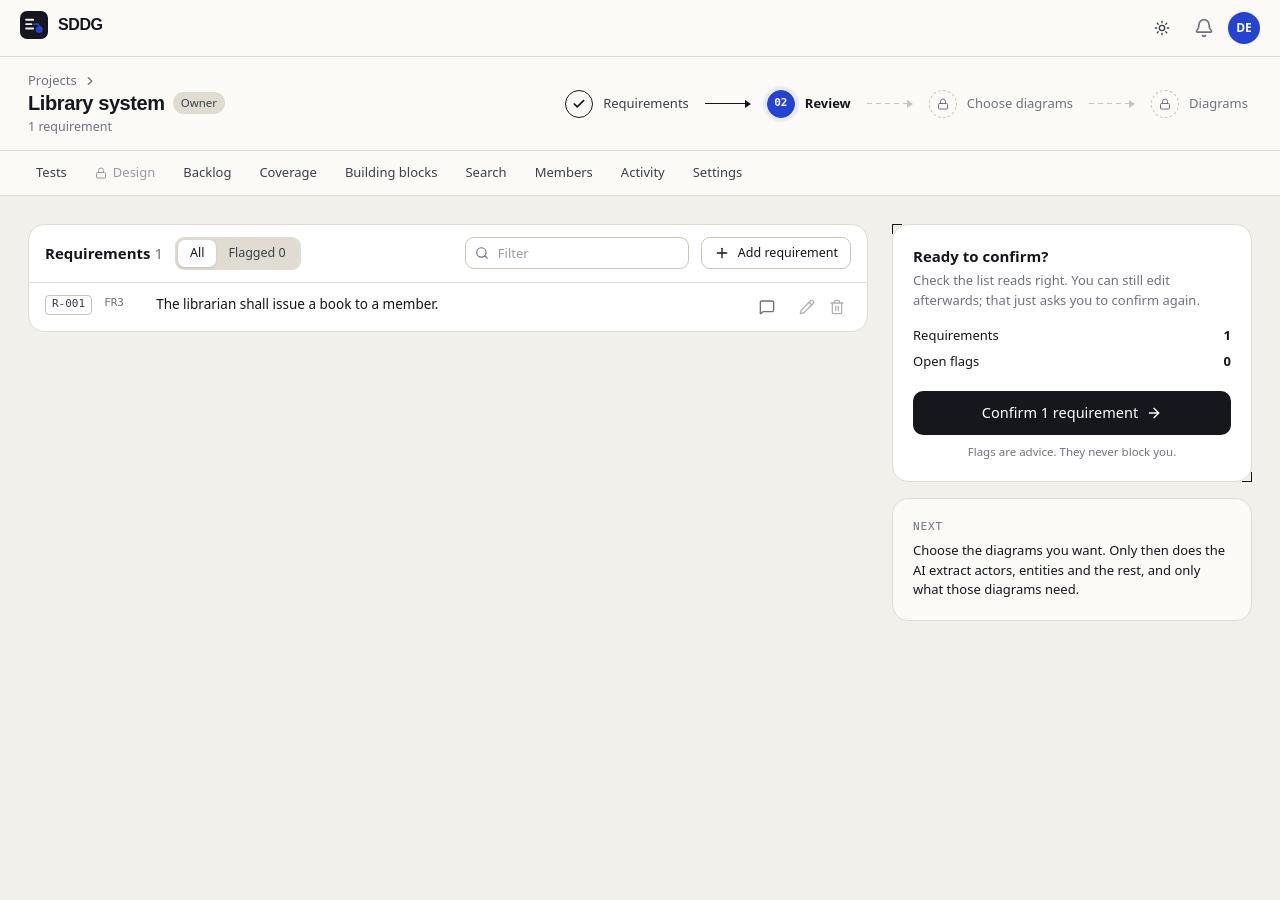
Scenario: Comments panel › sends an issue report when the box is ticked
Click the button named "Comments on R-001": (767, 306) [753, 292, 781, 320]
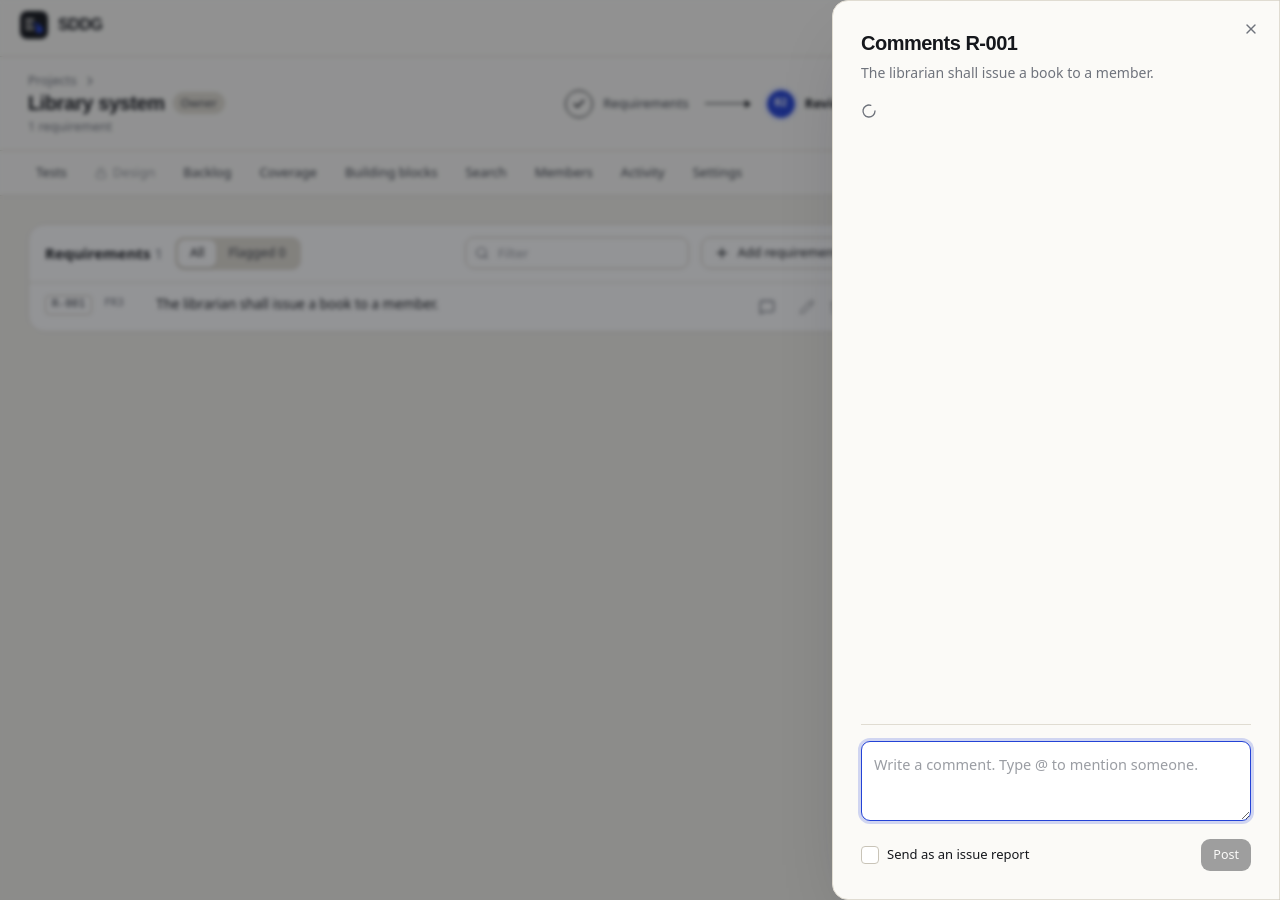
In the text box labelled "comment": (1056, 781) [861, 741, 1251, 821], type "R-001 is drawn twice."
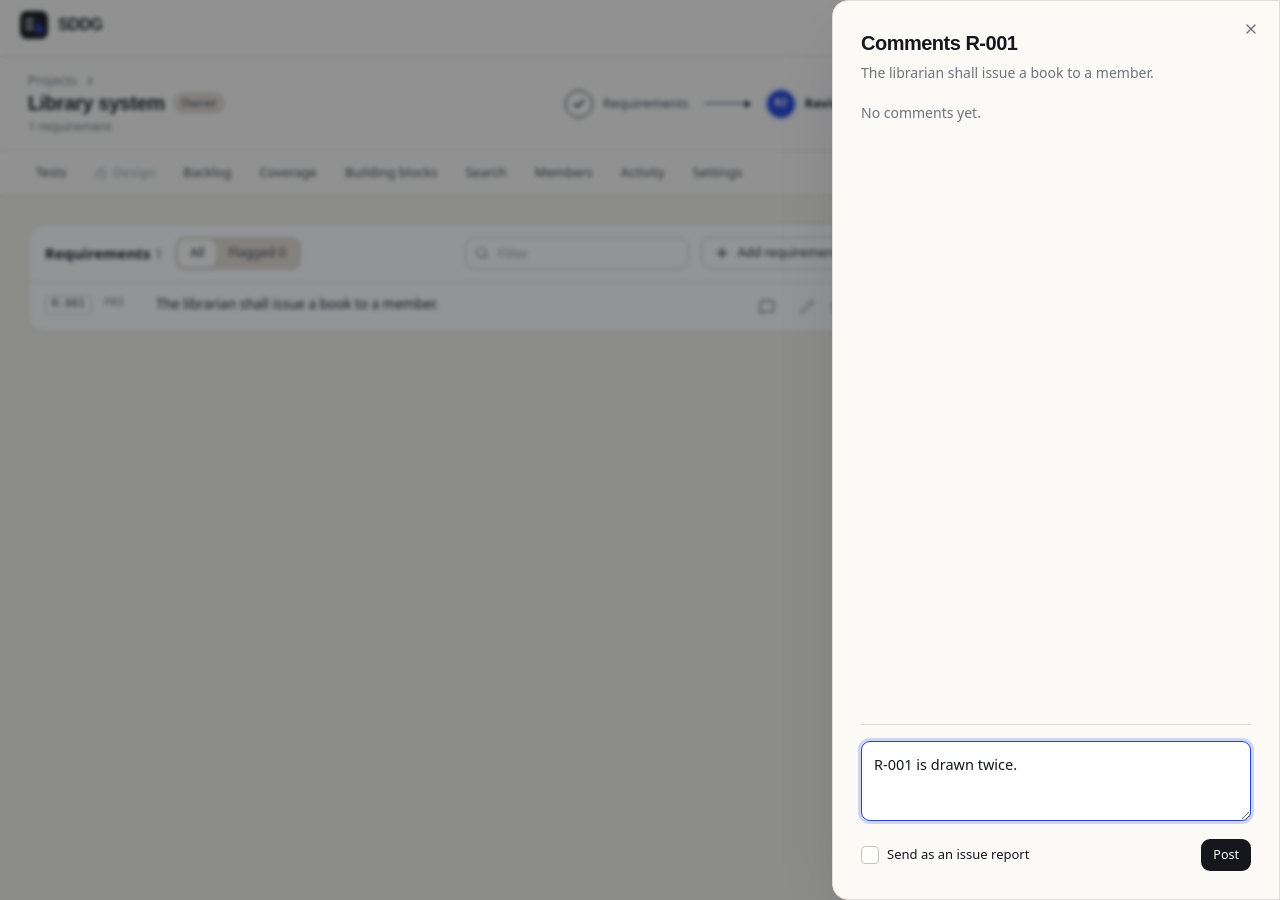
Click the checkbox named "Send as an issue report": (870, 855) [861, 846, 879, 864]
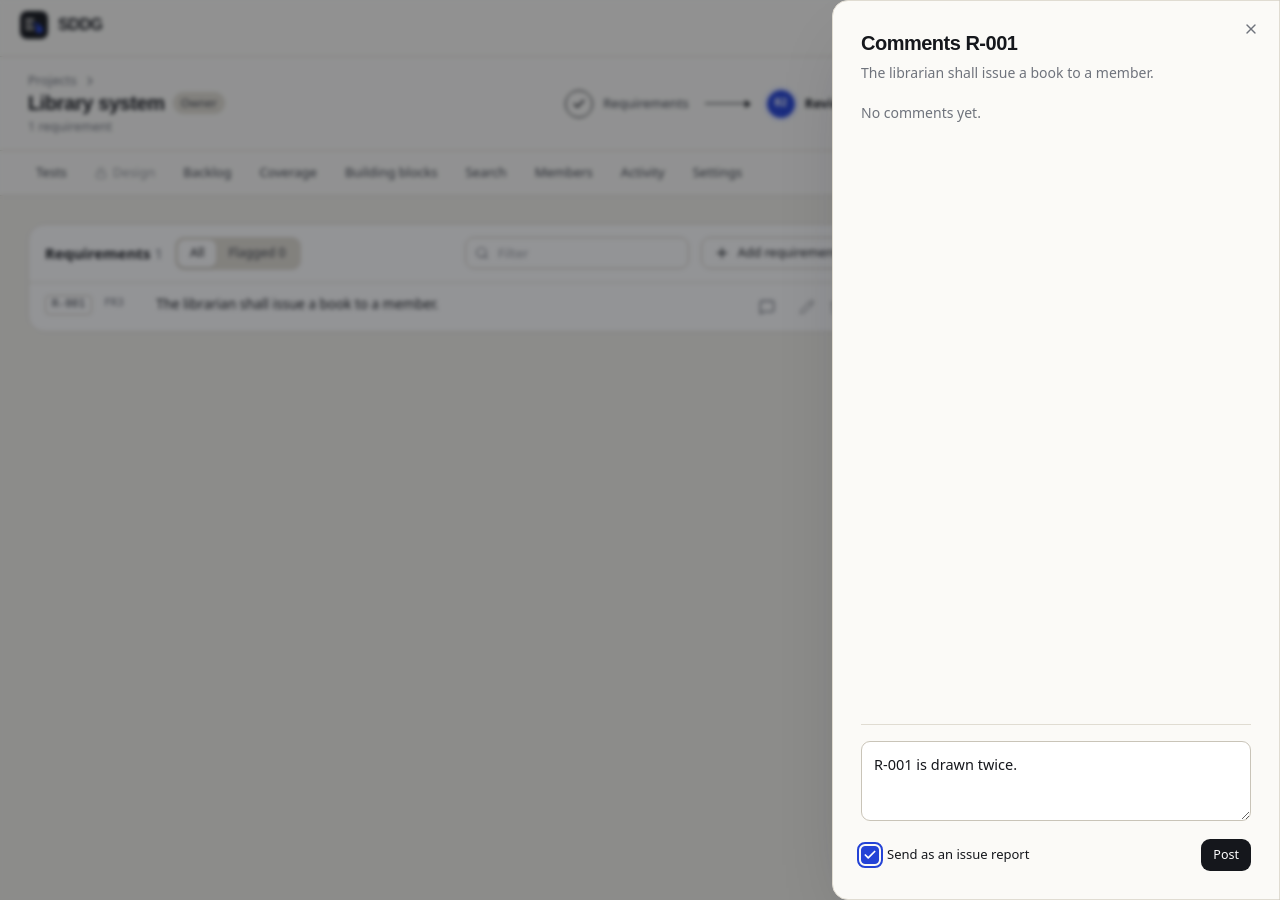
Click the button "Post": (1226, 855) [1201, 839, 1251, 871]
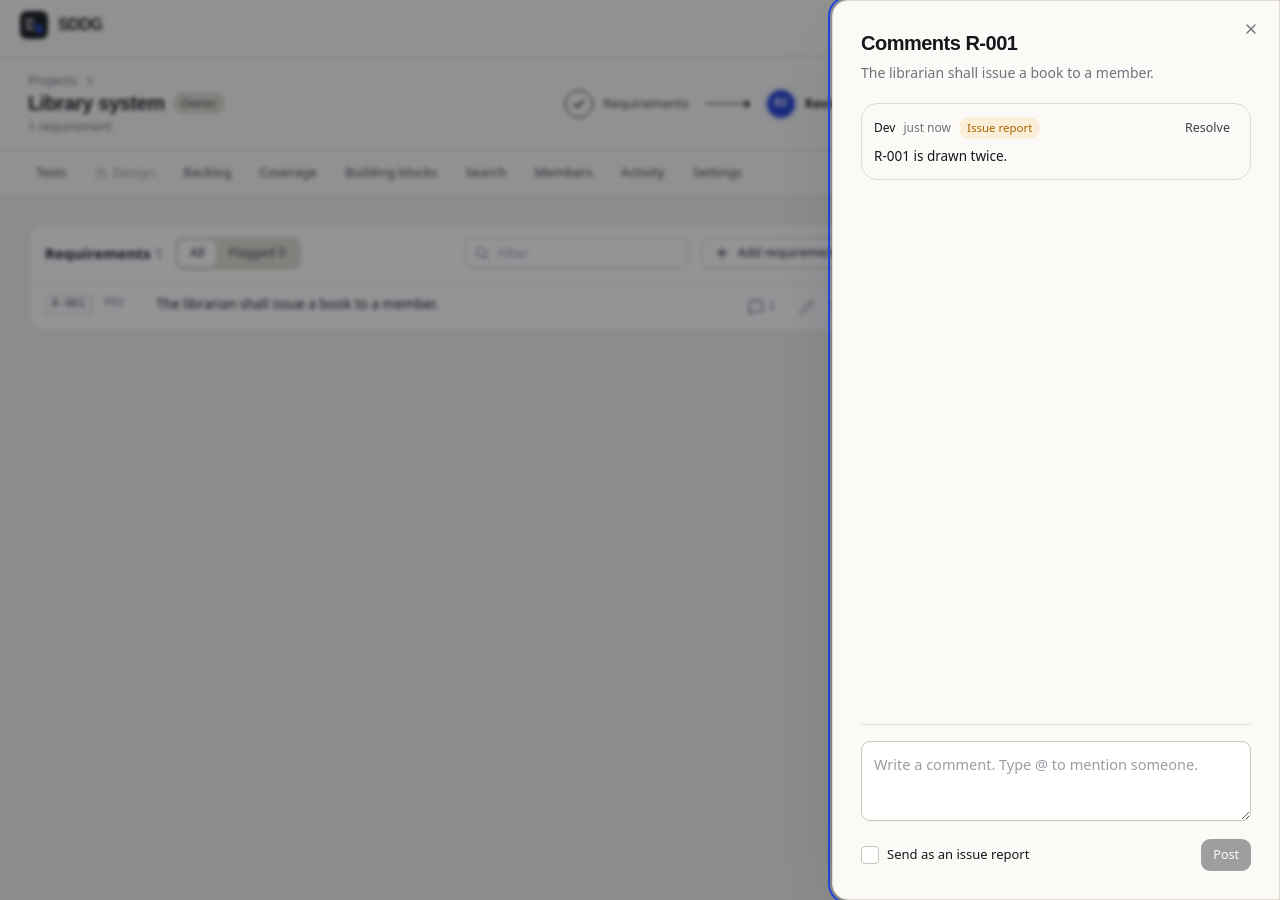
Now the checkbox named "Send as an issue report" is not checked, box [861, 846, 879, 864]
Now the text "Issue report" is shown, box [959, 117, 1040, 139]
